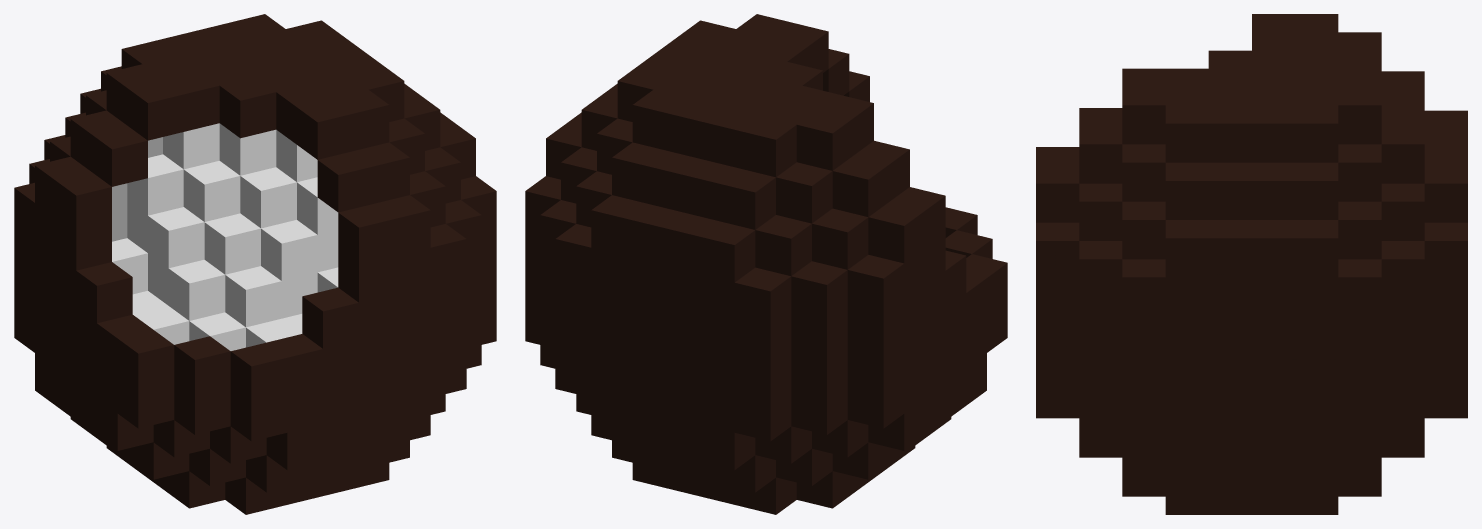
File: Bullet_3Lv.obj
3 views of the same model, side by side, from view 1: azimuth 30°, elevation 25°; view 2: azimuth 150°, elevation 25°; view 3: azimuth 270°, elevation 25° (orthographic). The views are drawn at different scales.
Size of the model in its own units: 1 by 1 by 1.
